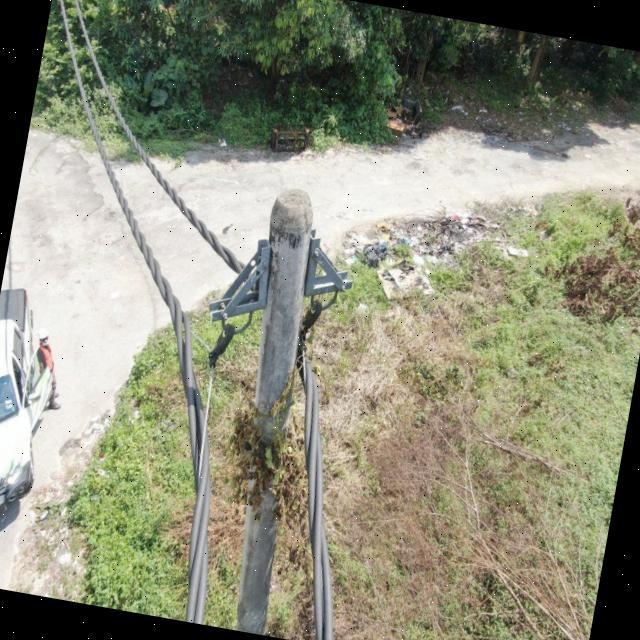critical vegetation: (202, 377, 329, 536)
